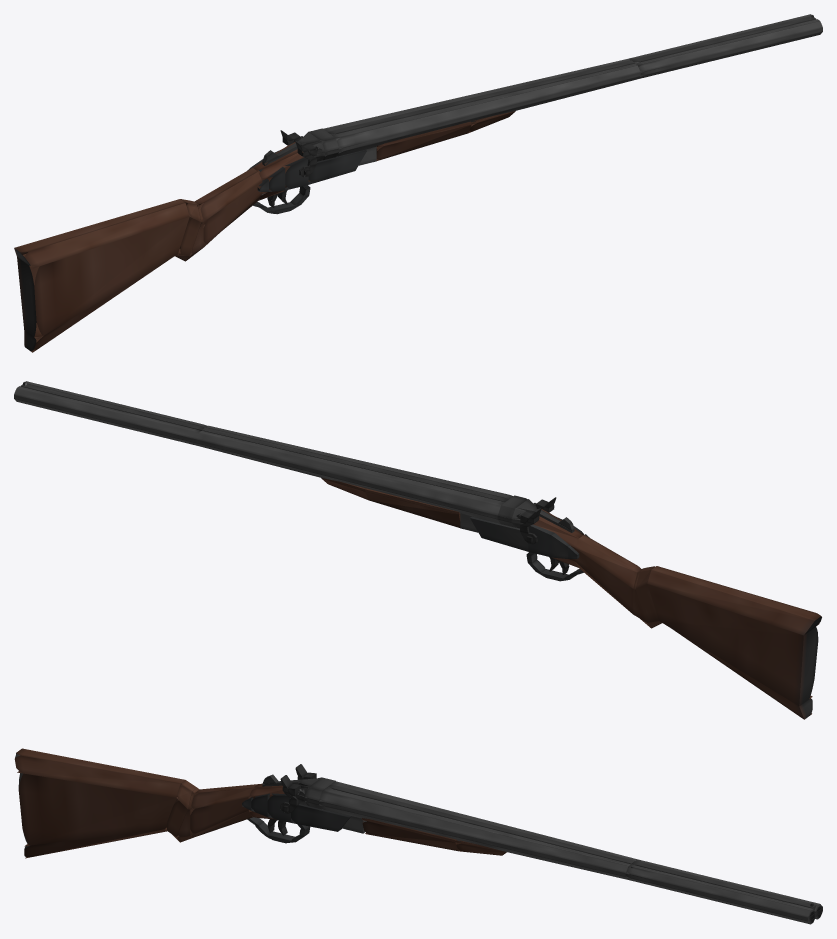
The model's file is dbarrel.obj.
The picture shows the model from 3 angles, top to bottom: view 1: azimuth 30°, elevation 25°; view 2: azimuth 150°, elevation 25°; view 3: azimuth 330°, elevation 25°; orthographic projection.
Visible parts, largest first — view 1: gunModel0, breakActionModel13, gunModel1, breakActionModel1, breakActionModel18, breakActionModel12, gunModel9, gunModel10, breakActionModel15, gunModel2, breakActionModel21, gunModel12 (+3 smaller); view 2: gunModel0, breakActionModel15, gunModel1, breakActionModel4, breakActionModel18, breakActionModel14, gunModel9, gunModel10, breakActionModel13, breakActionModel21, gunModel12, breakActionModel16 (+3 smaller); view 3: gunModel0, breakActionModel13, gunModel1, breakActionModel1, breakActionModel18, breakActionModel12, breakActionModel15, gunModel2, gunModel10, gunModel12, breakActionModel21, breakActionModel17 (+10 smaller).
Boxes of the visible parts, bbox=[...] form: gunModel0: bbox=[17, 217, 189, 339]; breakActionModel13: bbox=[330, 63, 640, 148]; gunModel1: bbox=[14, 199, 189, 268]; breakActionModel1: bbox=[635, 19, 822, 72]; breakActionModel18: bbox=[327, 60, 635, 138]; breakActionModel12: bbox=[339, 72, 640, 152]; gunModel9: bbox=[194, 168, 261, 221]; gunModel10: bbox=[200, 181, 262, 247]; breakActionModel15: bbox=[323, 58, 629, 140]; gunModel2: bbox=[24, 255, 175, 352]; breakActionModel21: bbox=[376, 125, 471, 160]; gunModel12: bbox=[308, 149, 366, 184]; gunModel0: bbox=[647, 584, 818, 706]; breakActionModel15: bbox=[196, 430, 504, 515]; gunModel1: bbox=[647, 566, 821, 635]; breakActionModel4: bbox=[14, 386, 200, 439]; breakActionModel18: bbox=[201, 427, 508, 501]; breakActionModel14: bbox=[196, 439, 497, 519]; gunModel9: bbox=[575, 535, 641, 588]; gunModel10: bbox=[574, 548, 633, 614]; breakActionModel13: bbox=[207, 425, 513, 499]; breakActionModel21: bbox=[365, 492, 460, 527]; gunModel12: bbox=[470, 516, 528, 551]; breakActionModel16: bbox=[197, 443, 500, 523]; gunModel0: bbox=[18, 773, 176, 846]; breakActionModel13: bbox=[319, 787, 630, 872]; gunModel1: bbox=[14, 748, 184, 797]; breakActionModel1: bbox=[626, 864, 815, 917]; breakActionModel18: bbox=[328, 784, 634, 864]; breakActionModel12: bbox=[319, 802, 625, 876]; breakActionModel15: bbox=[327, 781, 637, 860]; gunModel2: bbox=[24, 829, 166, 858]; gunModel10: bbox=[190, 797, 250, 834]; gunModel12: bbox=[291, 804, 351, 831]; breakActionModel21: bbox=[362, 821, 459, 851]; breakActionModel17: bbox=[320, 806, 628, 879].
Size of the model in its own units: 34.12 by 6.05 by 1.7.
